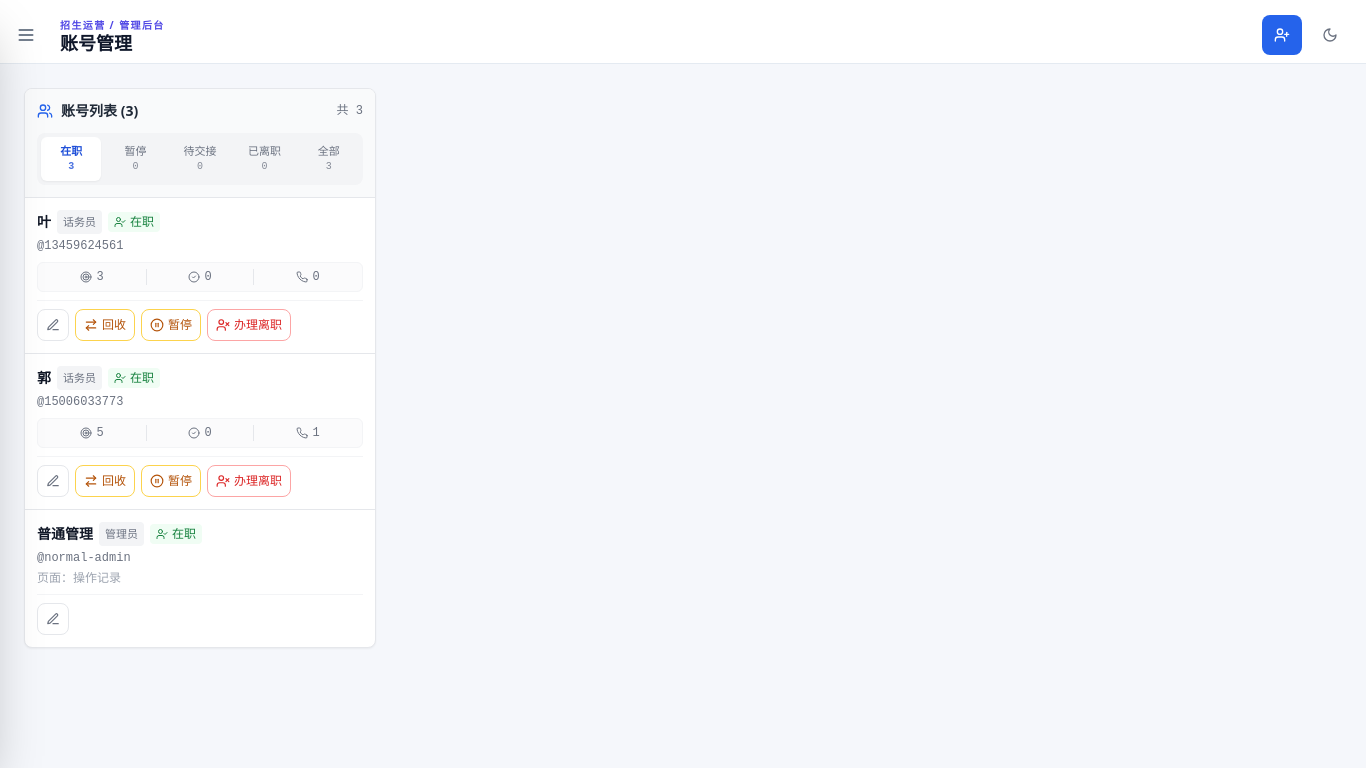
Test: AgentManage mobile navigation › stays on the agent list after tapping the mobile back button
Step 1. Click the text "叶" → {"x": 44, "y": 222}, box [37,212,51,232]
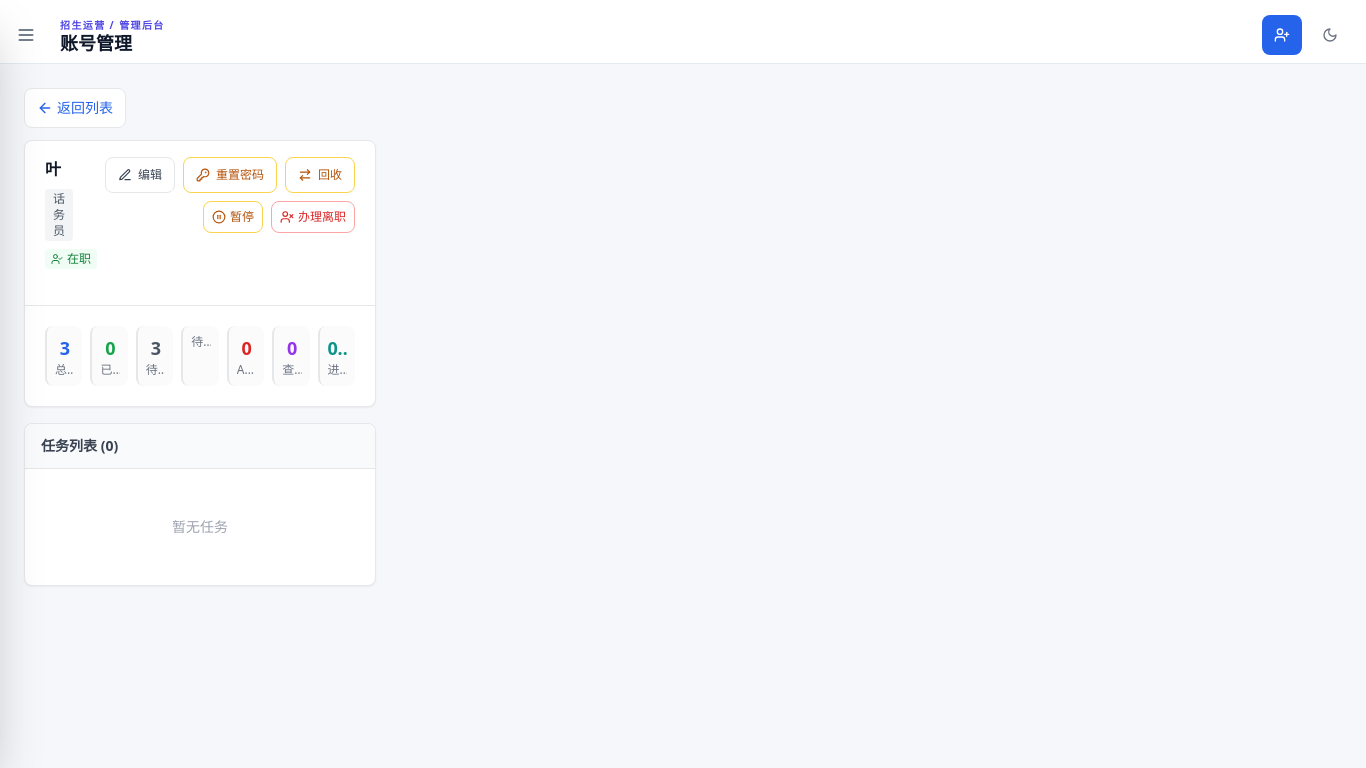
Expected: the button "返回列表" is shown
Expected: the heading "任务列表 (0)" is shown, [41,436,118,455]
Step 2. Click the button "返回列表" → {"x": 75, "y": 108}, box [24,88,126,128]
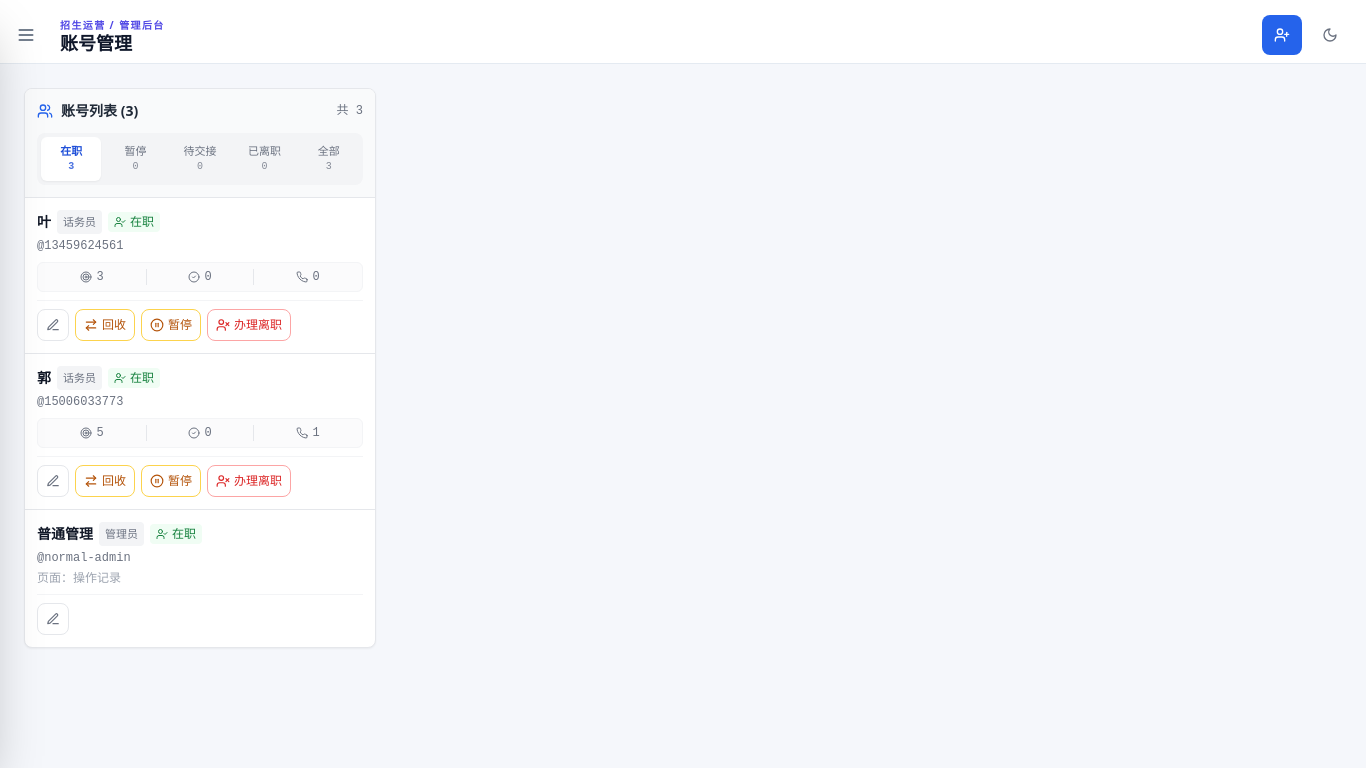
Expected: the button "返回列表" is gone
Expected: the heading "账号列表 (3)" is shown, [37,101,138,121]
